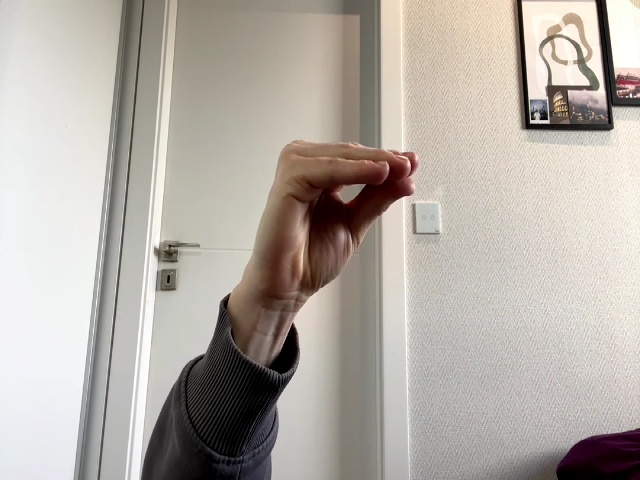E: (256, 141, 419, 293)
